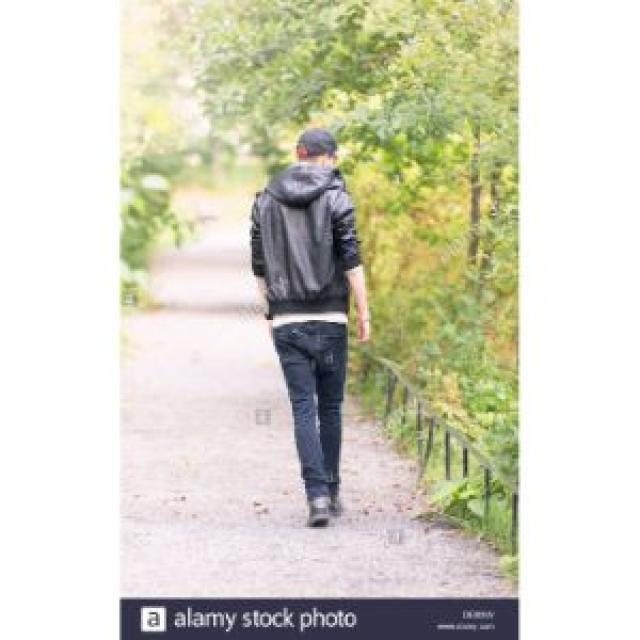nonfall: (240, 122, 386, 531)
